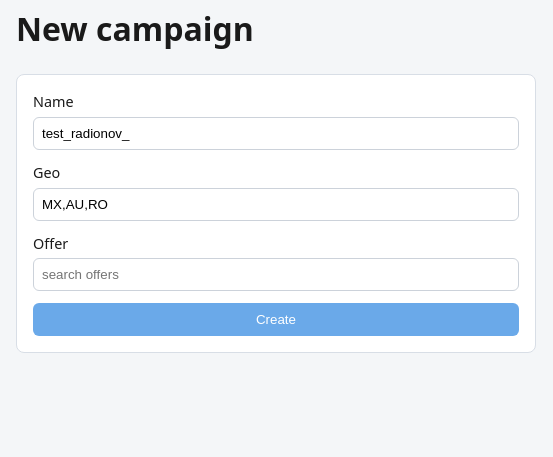
it: CreateCampaignPage › submits campaign creation
Step 1. Replace the text in the field with placeholder "test_radionov_campaign1" with "test_radionov_demo" → (276, 134), box [33,117,519,150]
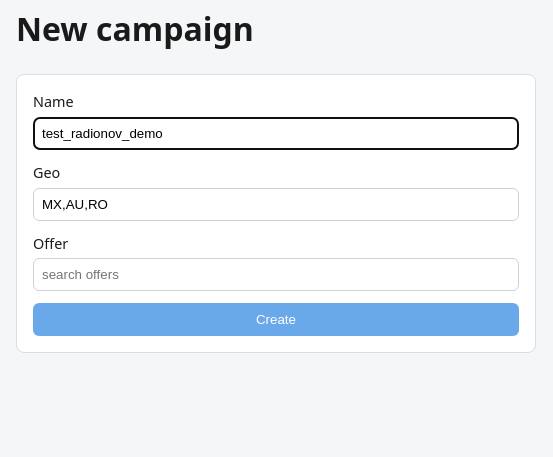
Step 2. Replace the text in the field with placeholder "MX,AU,RO,..." with "MX,AU" → (276, 204), box [33,188,519,221]
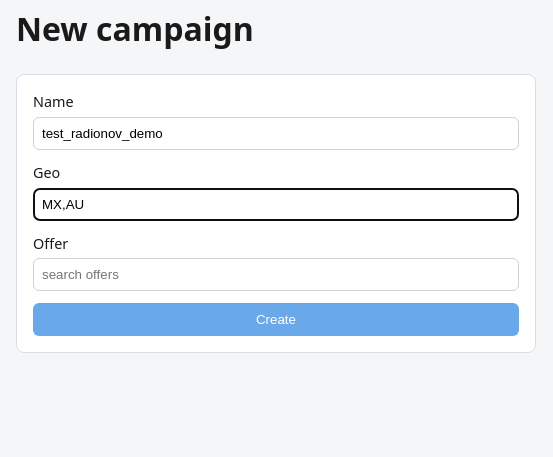
Step 3. Type "sam" into the field with placeholder "search offers" → (276, 275), box [33,258,519,291]
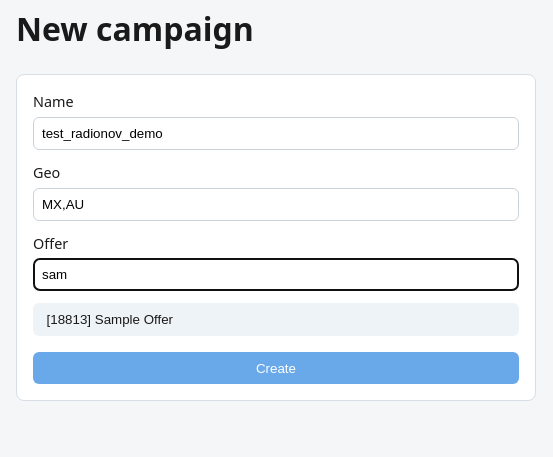
Now the button "[18813] Sample Offer" is shown
Step 4. Click the button "[18813] Sample Offer" → (69, 320), box [33,303,519,336]
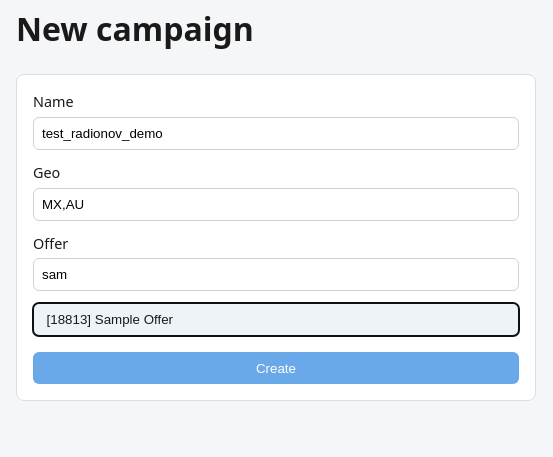
Step 5. Click the button "Create" → (276, 368), box [33,352,519,384]
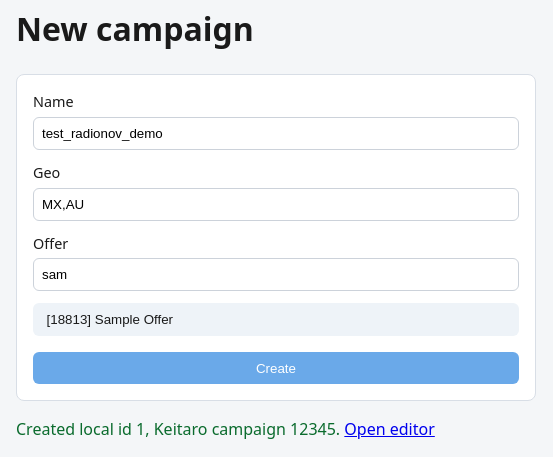
Now the text "Created local id 1, Keitaro campaign 12345. Open editor" is shown, box [16,418,435,440]
